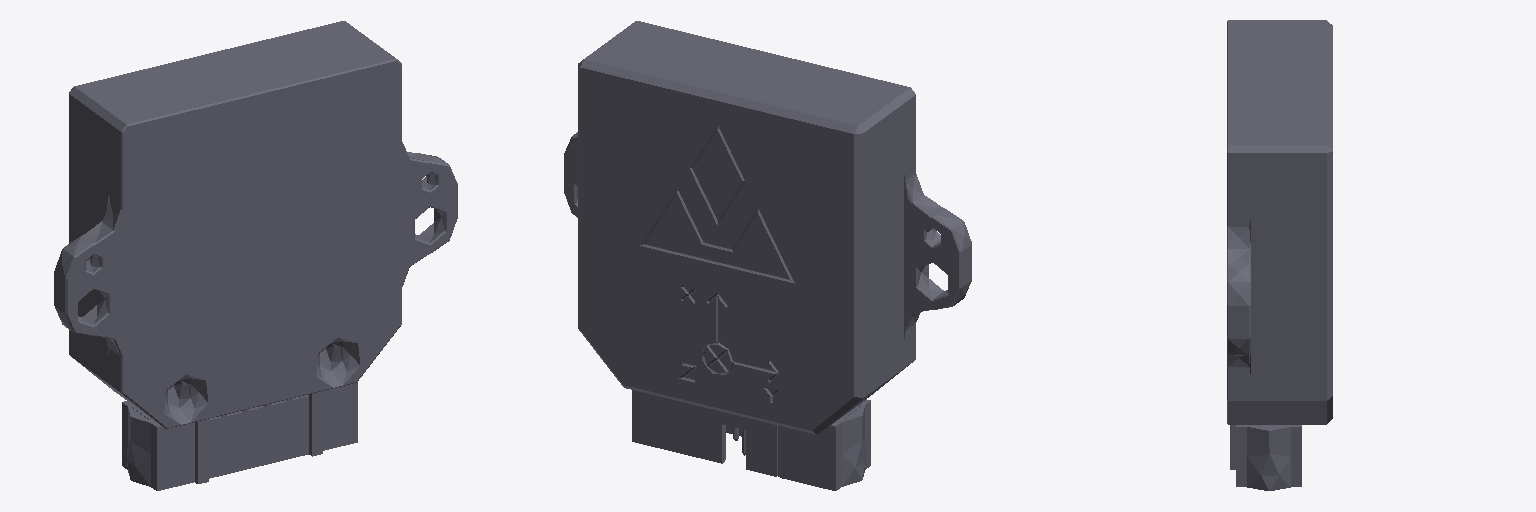
robot.urdf — vn100_imu:
<?xml version="1.0"?>
<robot name="vn100_imu">
  <link name="imu_link">
    <visual>
      <geometry>
        <mesh filename="package://imu_dds_adapter/meshes/vn100_rugged.stl"
              scale="0.001 0.001 0.001"/>
      </geometry>
      <material name="vn100_gray">
        <color rgba="0.45 0.45 0.50 1.0"/>
      </material>
    </visual>
  </link>
</robot>

--- What the picture shows (computed from the rendered views, not written in the file) ---
Views: 3 orthographic renders of the robot side by side, from view 1: azimuth 30°, elevation 25°; view 2: azimuth 150°, elevation 25°; view 3: azimuth 270°, elevation 25°.
Robot: vn100_imu — 1 links, 0 joints (none); root link imu_link; default pose: all joints at 0.
Visible links, largest first — view 1: imu_link; view 2: imu_link; view 3: imu_link.
Link boxes in pixels (x1,y1,x2,y2): imu_link: (54,21,457,490); imu_link: (564,21,971,490); imu_link: (1227,20,1332,490).
Bounding box of the posed robot: 0.0359 × 0.0089 × 0.0331 m (x, y, z).
Meshes: 1 distinct files referenced, 1 mesh visuals loaded (1 ASCII STL).
